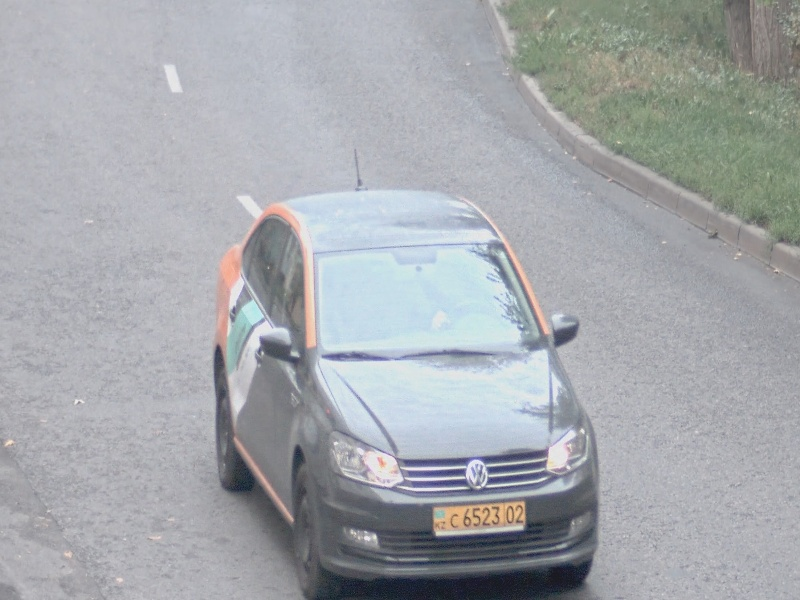y plate: (432, 497, 527, 538)
